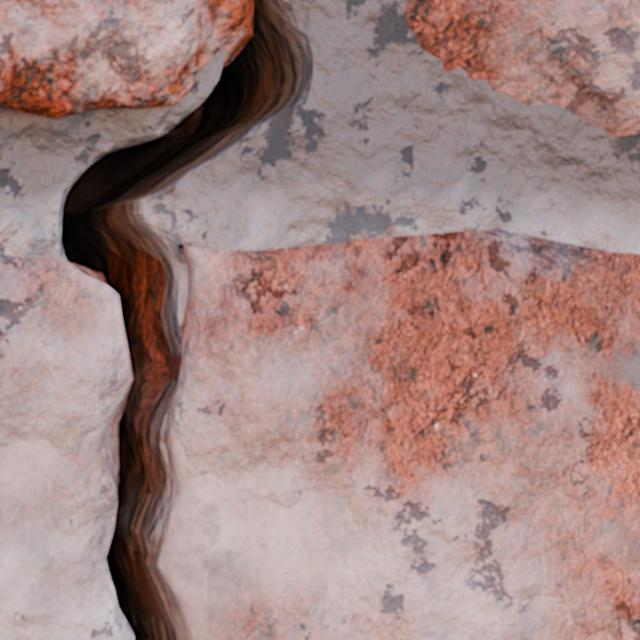broken_brick: (163, 229, 639, 639), (0, 255, 133, 639)
crack: (0, 0, 318, 639), (405, 0, 639, 136)
